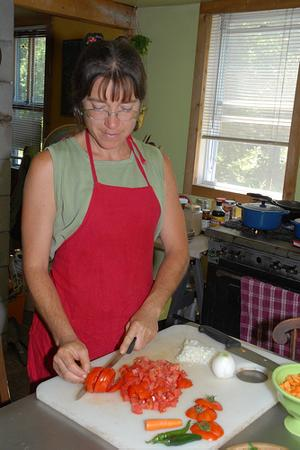person: (17, 29, 191, 396)
